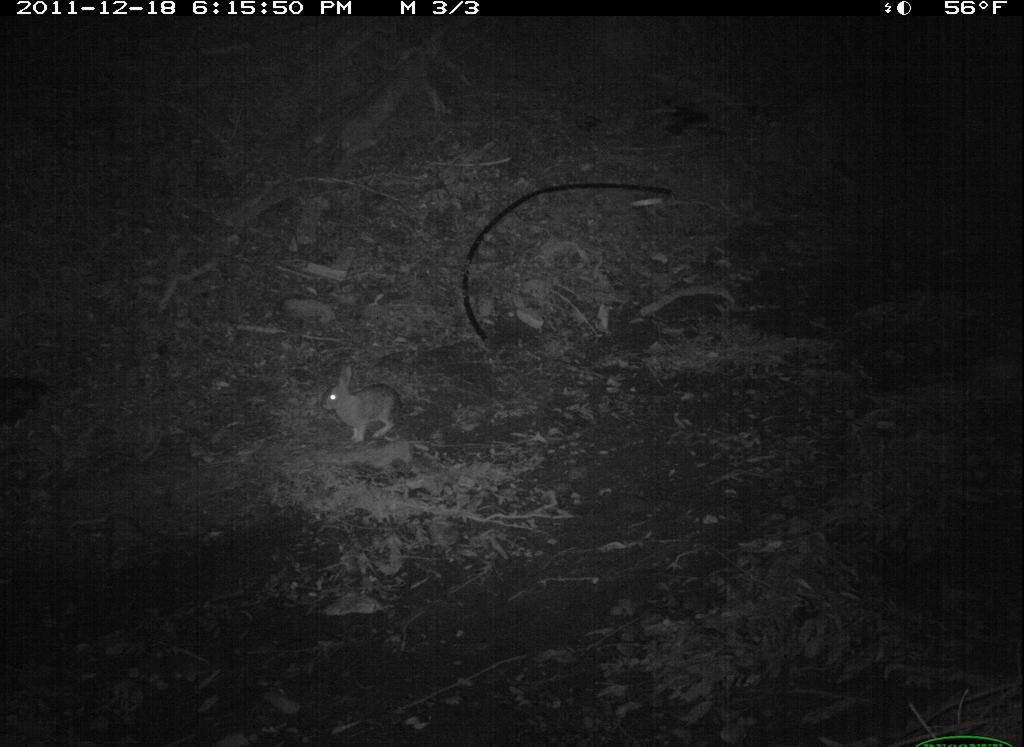rabbit: (315, 350, 428, 457)
